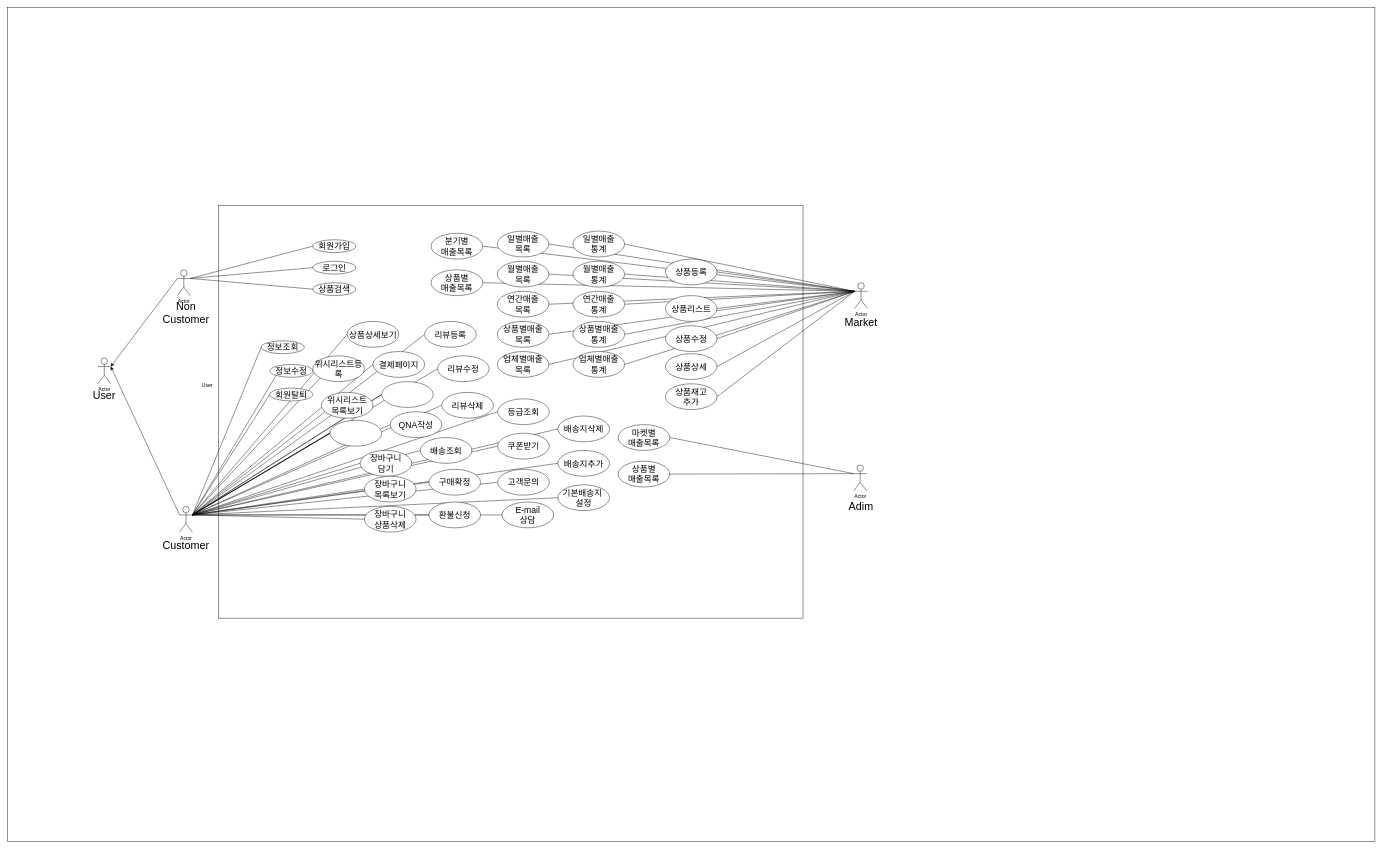
This 1382x849 diagram has some shape labels left out. Each missing label, with the centre of its shape:
상품구매: pixel 407 394
위시리스트 상품취소: pixel 356 433
